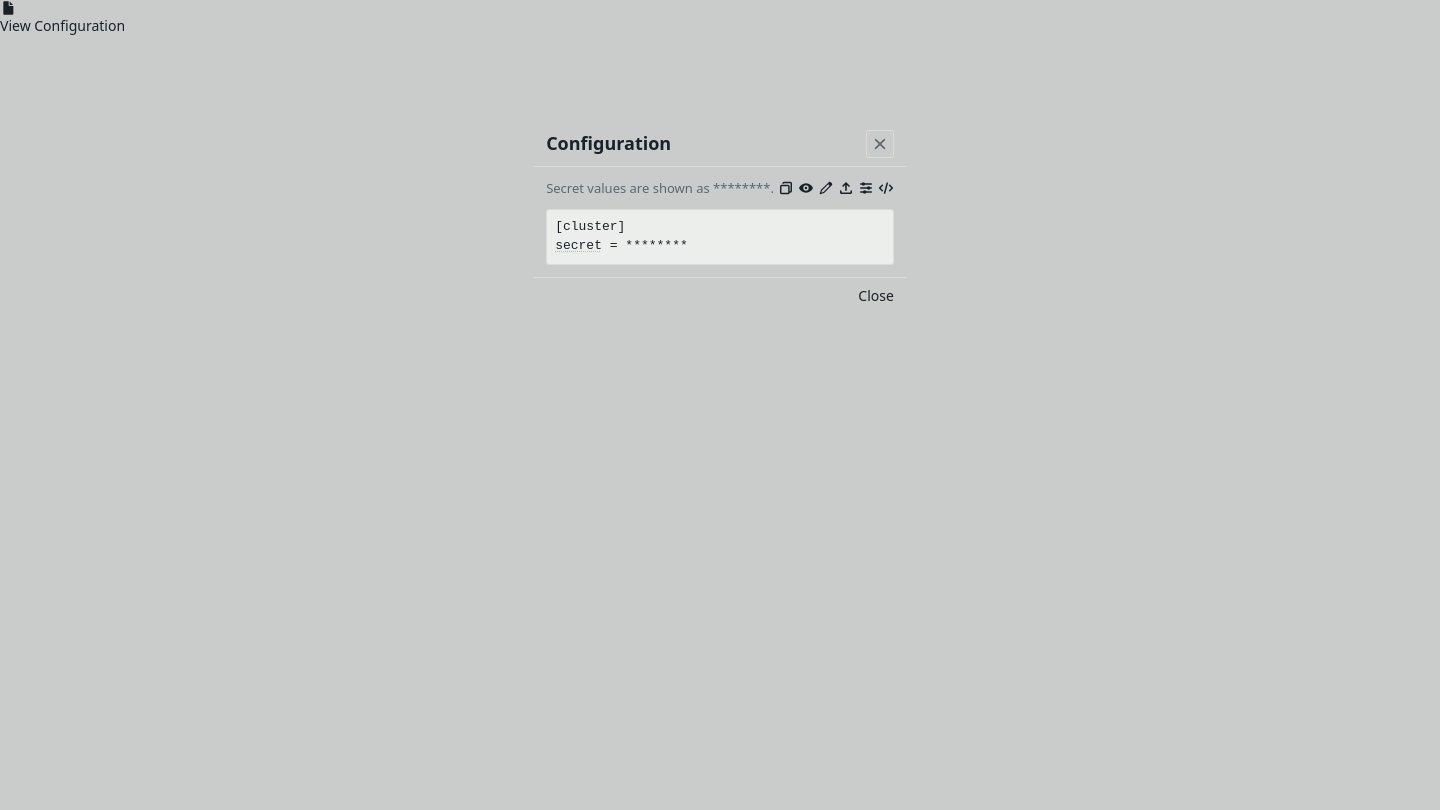
Test case: ConfigSection Component › secrets › never leaves a revealed secret on screen once hidden
Expected: the element showing "secret = ********" is shown, [555, 237, 688, 256]
Expected: the text "s3cr3t-value" is not shown
Click the 3rd button named "Show secrets".
click(806, 188)  # box [798, 180, 814, 196]
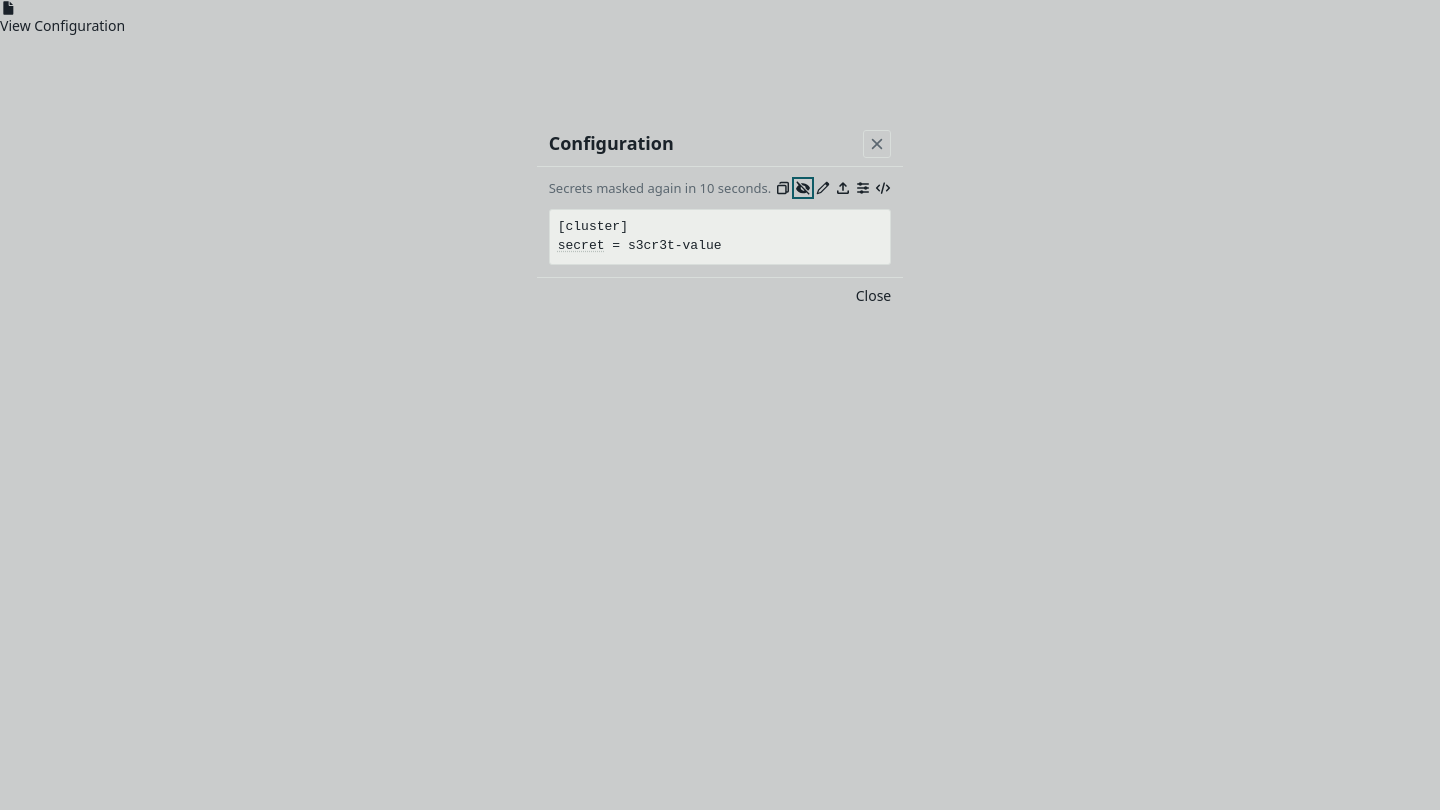
Expected: the element showing "secret = s3cr3t-value" is shown, [558, 237, 722, 256]
Click the 3rd button named "Hide secrets".
click(803, 188)  # box [795, 180, 811, 196]
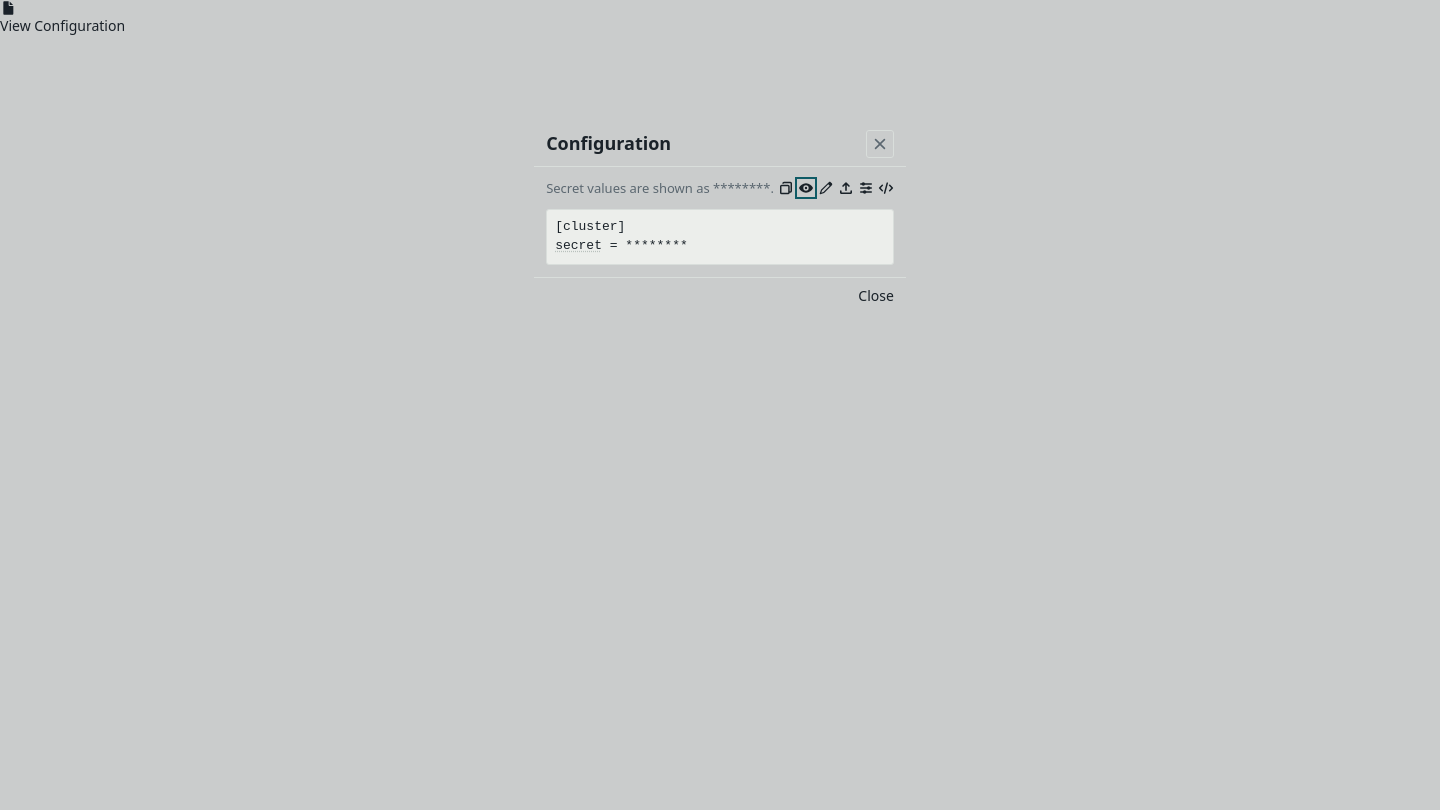
Expected: the element showing "secret = ********" is shown, [555, 237, 688, 256]
Expected: the text "s3cr3t-value" is gone
